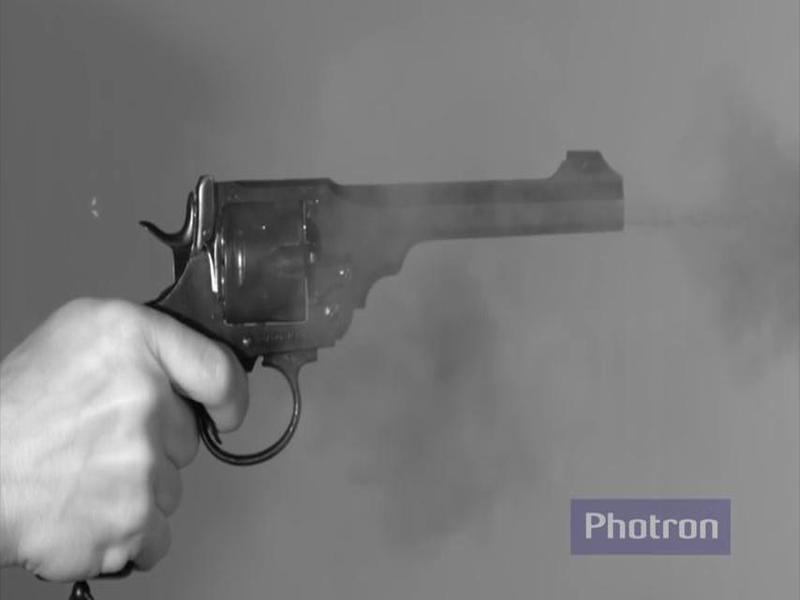Revolver: (111, 124, 647, 477)
